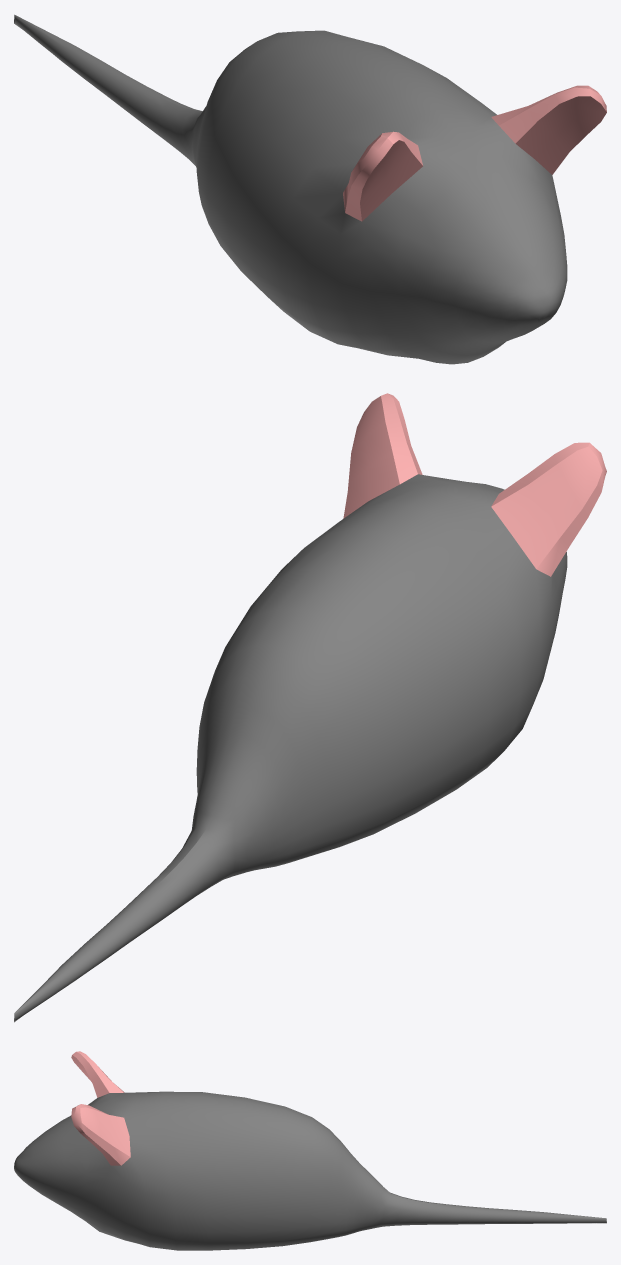
The model's file is MausMesh.gltf.
The picture shows the model from 3 angles, top to bottom: view 1: azimuth 30°, elevation 25°; view 2: azimuth 150°, elevation 25°; view 3: azimuth 270°, elevation 25°; orthographic projection. The views are drawn at different scales.
Visible parts, largest first — view 1: Maus; view 2: Maus; view 3: Maus.
Part boxes in pixels (x1,y1,x2,y2): Maus: [14, 14, 606, 364]; Maus: [14, 393, 606, 1022]; Maus: [14, 1051, 606, 1250].
Size of the model in its own units: 0.2616 by 0.2841 by 0.9858.
